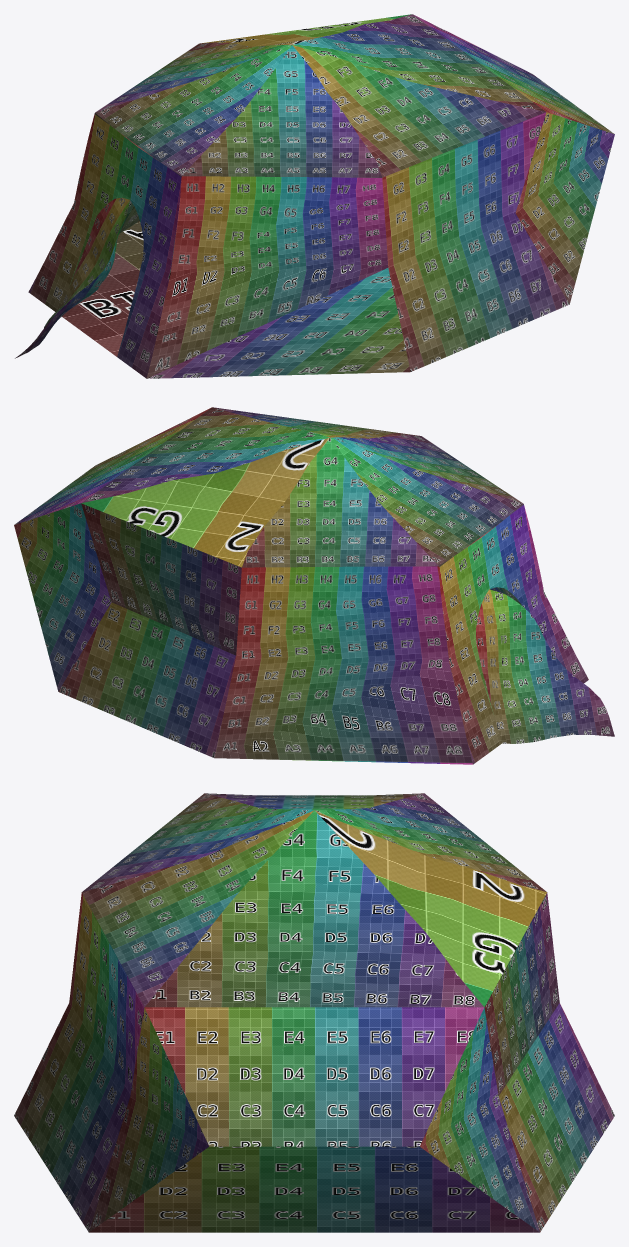
Rendered from TENT_MAINTEST.glb.
3 views of the same model, one above another, from view 1: azimuth 30°, elevation 25°; view 2: azimuth 150°, elevation 25°; view 3: azimuth 270°, elevation 25° (orthographic). The views are drawn at different scales.
Parts seen in each view (by area): view 1: Cylinder.001; view 2: Cylinder.001; view 3: Cylinder.001.
Part boxes in pixels (box(x1,y1,x2,y2)): Cylinder.001: box(15, 14, 614, 378); Cylinder.001: box(14, 407, 614, 764); Cylinder.001: box(14, 793, 614, 1232).
Bounding box in the file's own units: 7.98 × 3.24 × 5.78.
1 material, 1 textured.
